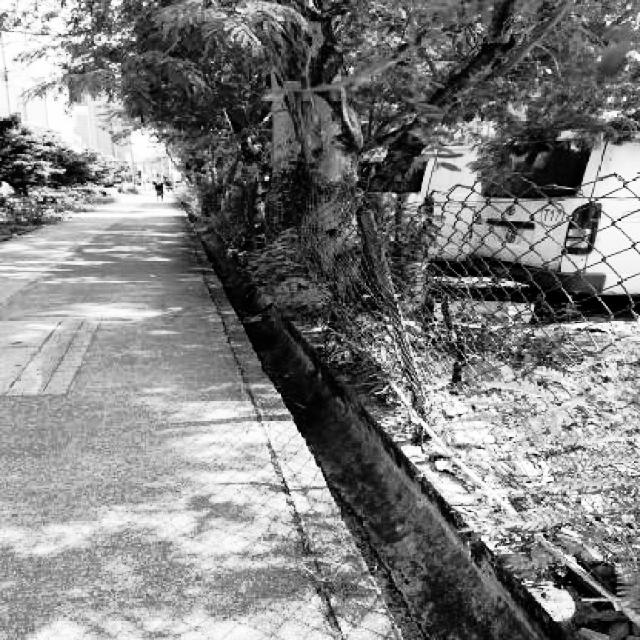anomaly-fence: (290, 151, 517, 419)
